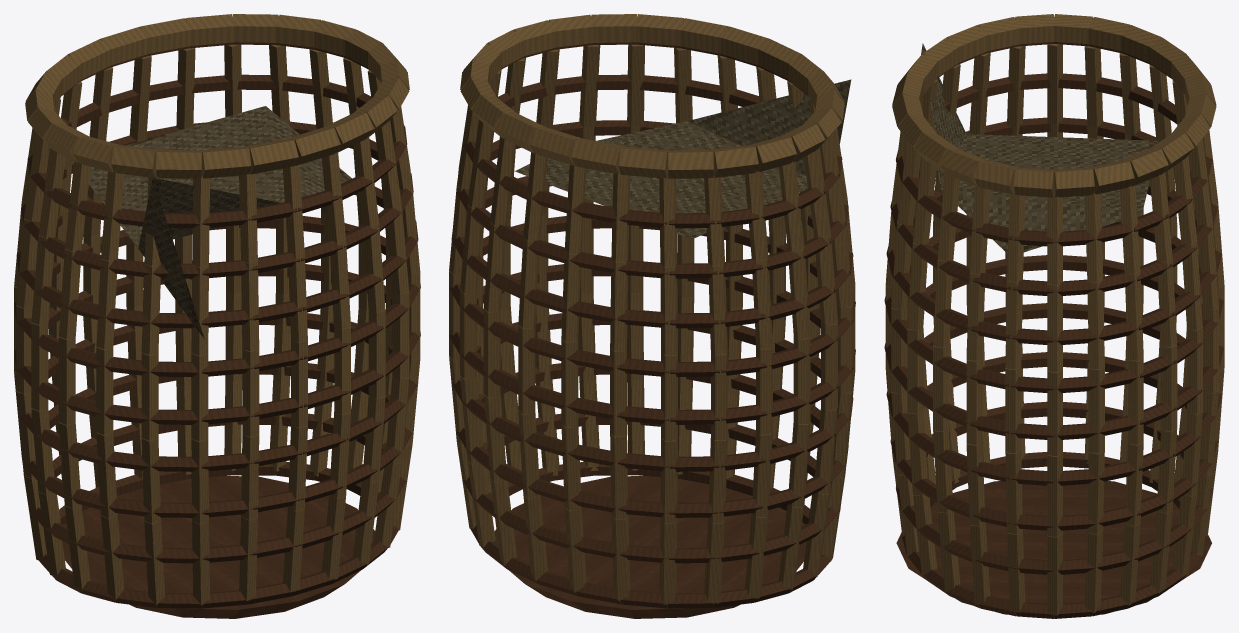
File: level_laundry_hamper.glb
3 renders of one model, left to right at view 1: azimuth 30°, elevation 25°; view 2: azimuth 150°, elevation 25°; view 3: azimuth 270°, elevation 25°, orthographic. The views are drawn at different scales.
Parts seen in each view (by area): view 1: level_laundry_hamper; view 2: level_laundry_hamper; view 3: level_laundry_hamper.
Part boxes in pixels (<box>): level_laundry_hamper: <box>14,14,420,618</box>; level_laundry_hamper: <box>449,14,855,618</box>; level_laundry_hamper: <box>884,14,1224,618</box>.
Size of the model in its own units: 0.477 by 0.5912 by 0.3877.
Materials: 3 (3 with a texture image).
